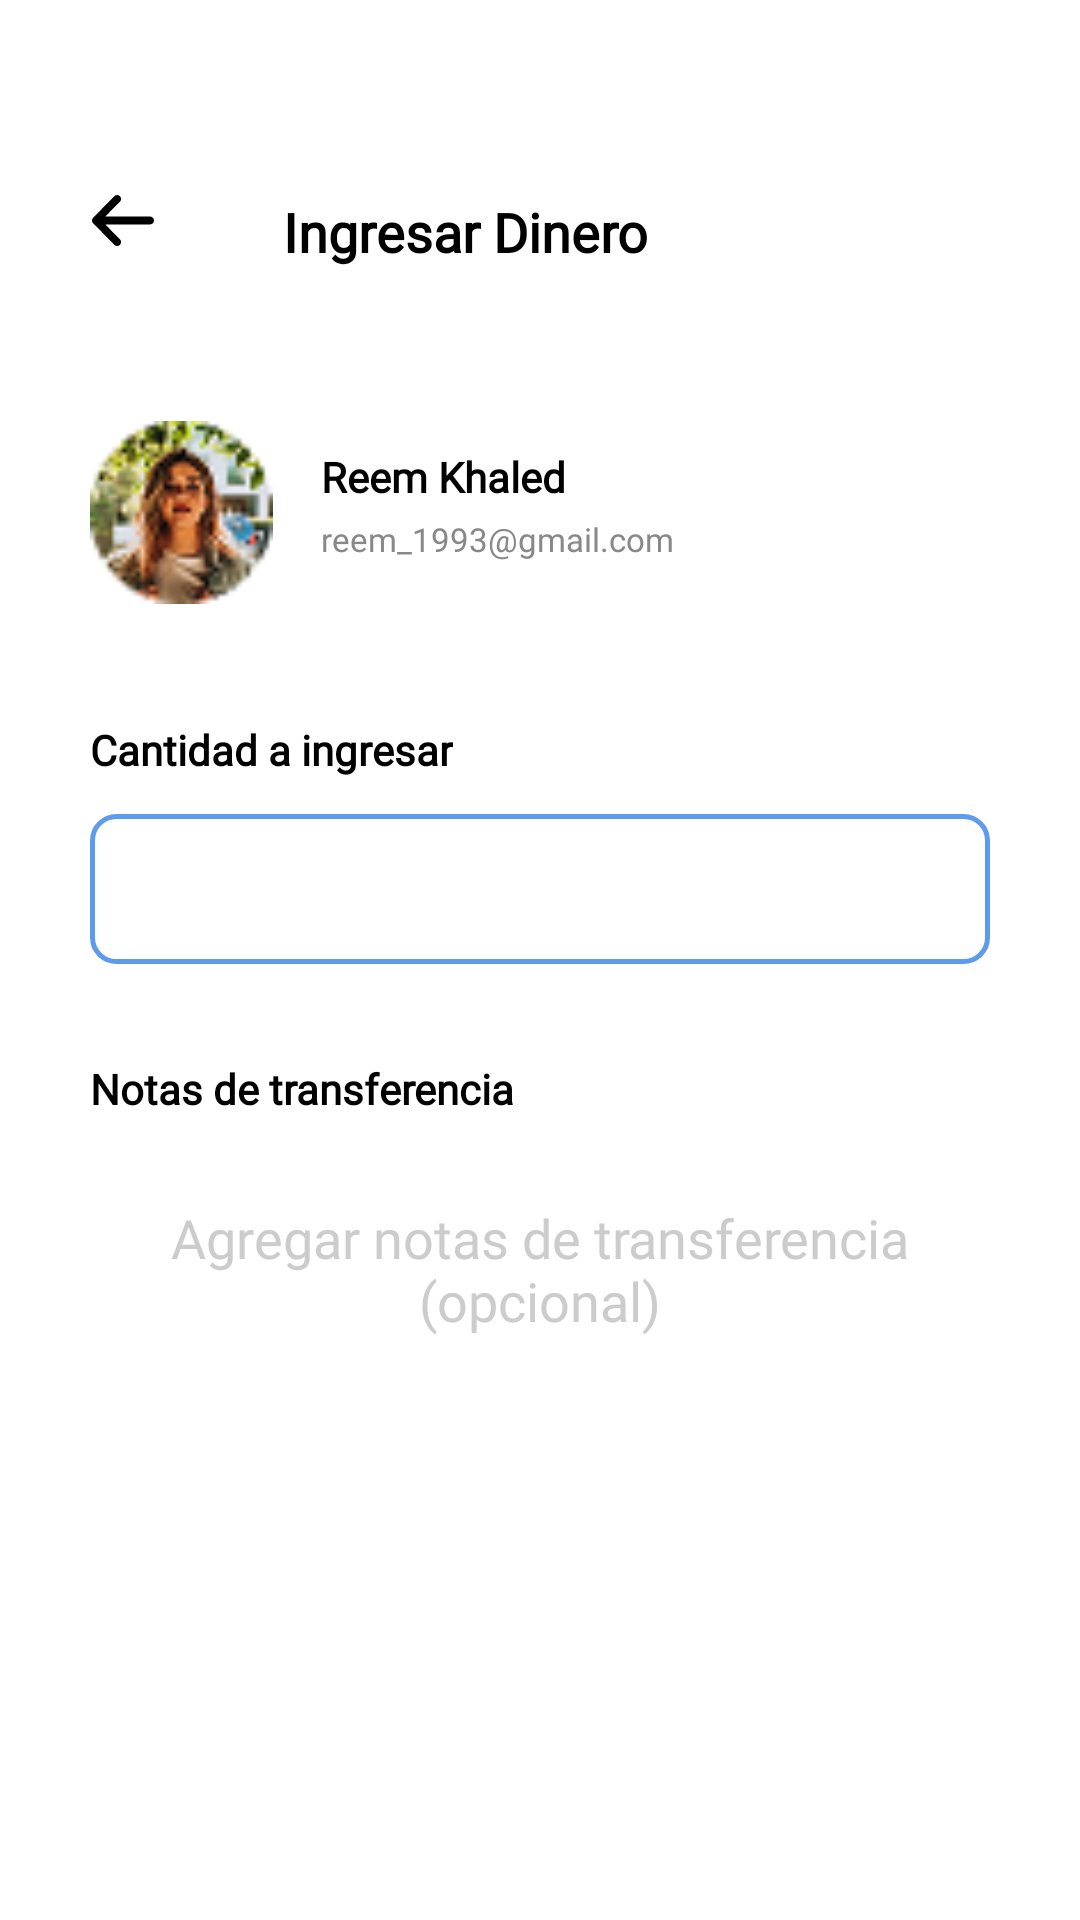

Screen size 1080×1920. Icon name, then its box in pixels as (x1, y1, x2, y2):
flecha back: (92, 195, 154, 246)
